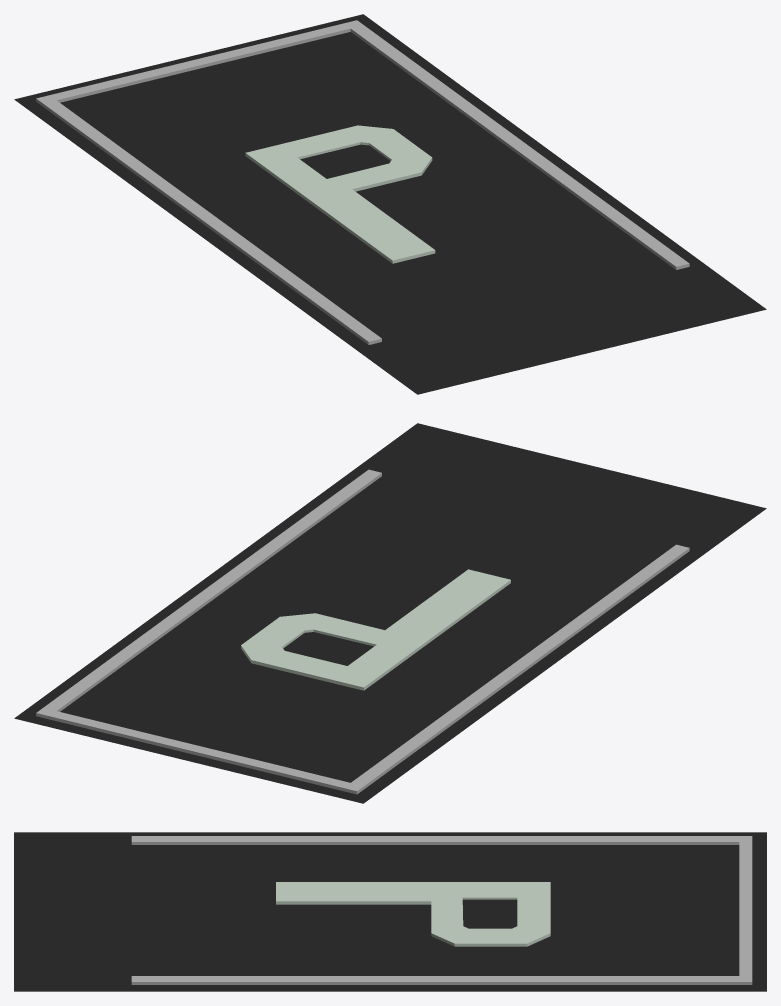
File: ParkingLot-1.fbx
The picture shows the model from 3 angles, top to bottom: view 1: azimuth 30°, elevation 25°; view 2: azimuth 150°, elevation 25°; view 3: azimuth 270°, elevation 25°; orthographic projection. The views are drawn at different scales.
Visible parts, largest first — view 1: ParkingLot-1; view 2: ParkingLot-1; view 3: ParkingLot-1.
Boxes of the visible parts, box(x1,y1,x2,y2) form: ParkingLot-1: box(14, 14, 766, 394); ParkingLot-1: box(14, 423, 766, 803); ParkingLot-1: box(14, 832, 766, 991).
Size of the model in its own units: 6 by 0.1217 by 12.
